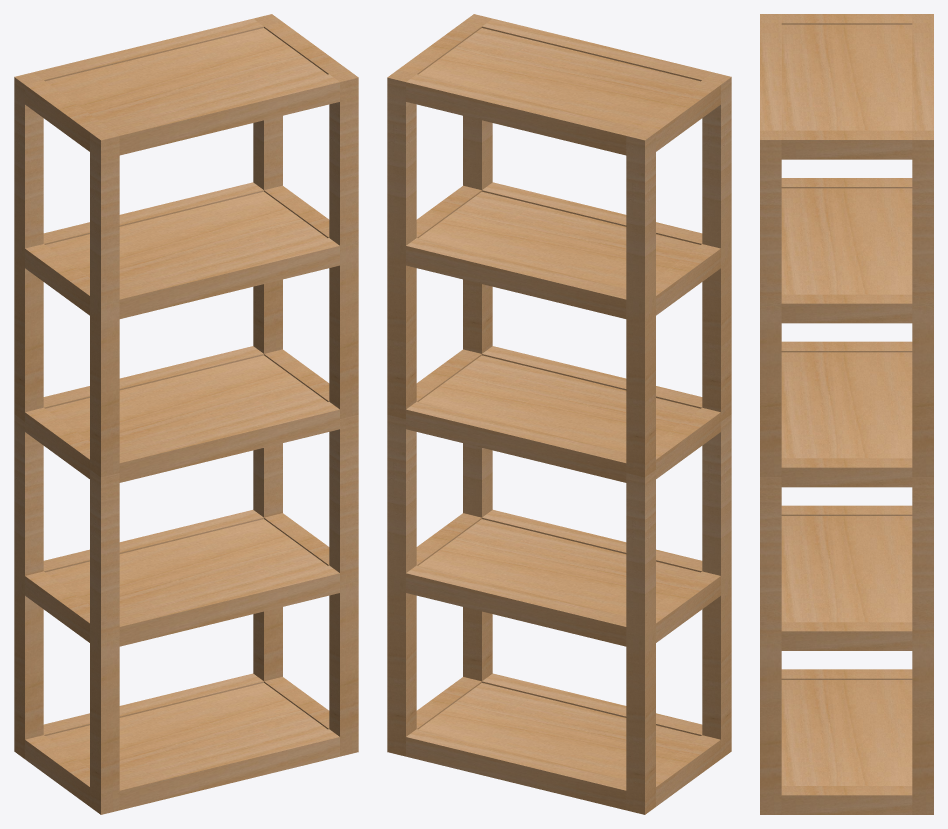
The model's file is cabinet.obj.
The picture shows the model from 3 angles, left to right: view 1: azimuth 30°, elevation 25°; view 2: azimuth 150°, elevation 25°; view 3: azimuth 270°, elevation 25°; orthographic projection.
Visible parts, largest first — view 1: Mesh6 bookshelf_leg_f_l1 bookshelf1 Model, Mesh8 bookshelf_leg_f_r1 bookshelf1 Model, Mesh9 bookshelf_leg_b_l1 bookshelf1 Model, Mesh13 bookshelf_top_shelf1 bookshelf1 Model, Mesh24 bookshelf_shelf_copy_002 bookshelf1 Model, Mesh29 bookshelf_shelf_copy_003 bookshelf1 Model, Mesh19 bookshelf_shelf_copy_001 bookshelf1 Model, Mesh14 bookshelf_shelf1 bookshelf1 Model, Mesh10 bookshelf_b_r1 bookshelf1 Model, Mesh12 bookshelf_beam_x_f1 bookshelf1 Model, Mesh16 bookshelf_shelf_beam_x_f_copy_001 bookshelf1 Model, Mesh2 bookshelf_shelf_beam_x_f1 bookshelf1 Model (+17 smaller); view 2: Mesh9 bookshelf_leg_b_l1 bookshelf1 Model, Mesh10 bookshelf_b_r1 bookshelf1 Model, Mesh6 bookshelf_leg_f_l1 bookshelf1 Model, Mesh13 bookshelf_top_shelf1 bookshelf1 Model, Mesh24 bookshelf_shelf_copy_002 bookshelf1 Model, Mesh29 bookshelf_shelf_copy_003 bookshelf1 Model, Mesh19 bookshelf_shelf_copy_001 bookshelf1 Model, Mesh14 bookshelf_shelf1 bookshelf1 Model, Mesh8 bookshelf_leg_f_r1 bookshelf1 Model, Mesh4 bookshelf_beam_x_b1 bookshelf1 Model, Mesh15 bookshelf_shelf_beam_x_b_copy_001 bookshelf1 Model, Mesh1 bookshelf_shelf_beam_x_b1 bookshelf1 Model (+17 smaller); view 3: Mesh8 bookshelf_leg_f_r1 bookshelf1 Model, Mesh10 bookshelf_b_r1 bookshelf1 Model, Mesh29 bookshelf_shelf_copy_003 bookshelf1 Model, Mesh13 bookshelf_top_shelf1 bookshelf1 Model, Mesh19 bookshelf_shelf_copy_001 bookshelf1 Model, Mesh24 bookshelf_shelf_copy_002 bookshelf1 Model, Mesh14 bookshelf_shelf1 bookshelf1 Model, Mesh11 bookshelf_beam_y_r1 bookshelf1 Model, Mesh23 bookshelf_shelf_beam_y_r_copy_002 bookshelf1 Model, Mesh28 bookshelf_shelf_beam_y_r_copy_003 bookshelf1 Model, Mesh7 bookshelf_shelf_beam_y_r1 bookshelf1 Model, Mesh18 bookshelf_shelf_beam_y_r_copy_001 bookshelf1 Model (+7 smaller).
Boxes of the visible parts, x1,y1,x2,y2 form: Mesh6 bookshelf_leg_f_l1 bookshelf1 Model: (90,128,119,814); Mesh8 bookshelf_leg_f_r1 bookshelf1 Model: (329,69,358,756); Mesh9 bookshelf_leg_b_l1 bookshelf1 Model: (14,72,43,758); Mesh13 bookshelf_top_shelf1 bookshelf1 Model: (46,28,327,127); Mesh24 bookshelf_shelf_copy_002 bookshelf1 Model: (45,355,327,452); Mesh29 bookshelf_shelf_copy_003 bookshelf1 Model: (45,191,327,288); Mesh19 bookshelf_shelf_copy_001 bookshelf1 Model: (45,519,327,616); Mesh14 bookshelf_shelf1 bookshelf1 Model: (45,683,327,779); Mesh10 bookshelf_b_r1 bookshelf1 Model: (253,14,282,681); Mesh12 bookshelf_beam_x_f1 bookshelf1 Model: (109,74,339,155); Mesh16 bookshelf_shelf_beam_x_f_copy_001 bookshelf1 Model: (119,565,339,646); Mesh2 bookshelf_shelf_beam_x_f1 bookshelf1 Model: (119,729,339,810); Mesh9 bookshelf_leg_b_l1 bookshelf1 Model: (626,128,655,814); Mesh10 bookshelf_b_r1 bookshelf1 Model: (387,69,416,756); Mesh6 bookshelf_leg_f_l1 bookshelf1 Model: (702,72,731,758); Mesh13 bookshelf_top_shelf1 bookshelf1 Model: (418,28,699,127); Mesh24 bookshelf_shelf_copy_002 bookshelf1 Model: (418,355,700,452); Mesh29 bookshelf_shelf_copy_003 bookshelf1 Model: (418,191,700,288); Mesh19 bookshelf_shelf_copy_001 bookshelf1 Model: (418,519,700,616); Mesh14 bookshelf_shelf1 bookshelf1 Model: (418,683,700,779); Mesh8 bookshelf_leg_f_r1 bookshelf1 Model: (463,14,492,681); Mesh4 bookshelf_beam_x_b1 bookshelf1 Model: (406,74,636,155); Mesh15 bookshelf_shelf_beam_x_b_copy_001 bookshelf1 Model: (406,565,626,646); Mesh1 bookshelf_shelf_beam_x_b1 bookshelf1 Model: (406,729,626,810); Mesh8 bookshelf_leg_f_r1 bookshelf1 Model: (760,130,781,814); Mesh10 bookshelf_b_r1 bookshelf1 Model: (912,130,933,814); Mesh29 bookshelf_shelf_copy_003 bookshelf1 Model: (781,188,912,294); Mesh13 bookshelf_top_shelf1 bookshelf1 Model: (781,24,912,130); Mesh19 bookshelf_shelf_copy_001 bookshelf1 Model: (781,516,912,622); Mesh24 bookshelf_shelf_copy_002 bookshelf1 Model: (781,352,912,458); Mesh14 bookshelf_shelf1 bookshelf1 Model: (781,680,912,785); Mesh11 bookshelf_beam_y_r1 bookshelf1 Model: (781,130,912,159); Mesh23 bookshelf_shelf_beam_y_r_copy_002 bookshelf1 Model: (781,458,912,487); Mesh28 bookshelf_shelf_beam_y_r_copy_003 bookshelf1 Model: (781,294,912,323); Mesh7 bookshelf_shelf_beam_y_r1 bookshelf1 Model: (781,786,912,814); Mesh18 bookshelf_shelf_beam_y_r_copy_001 bookshelf1 Model: (781,622,912,650).
Size of the model in its own units: 24 by 60 by 14.
Materials: 1 (1 with a texture image).
